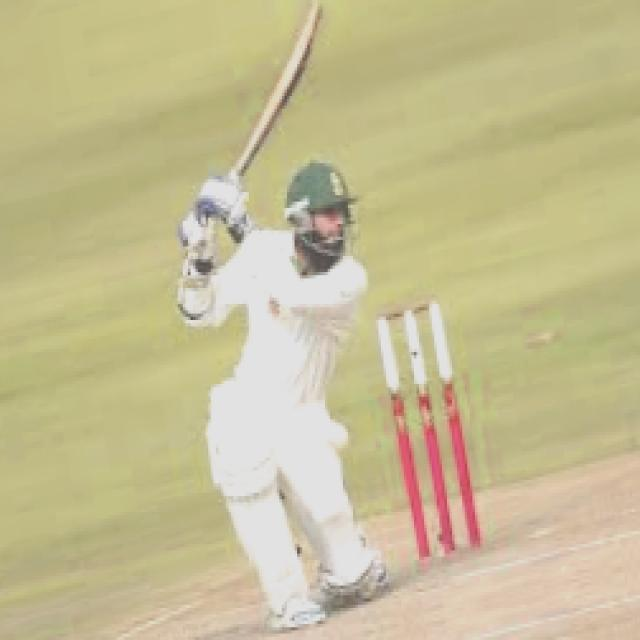bat: (226, 1, 324, 183)
